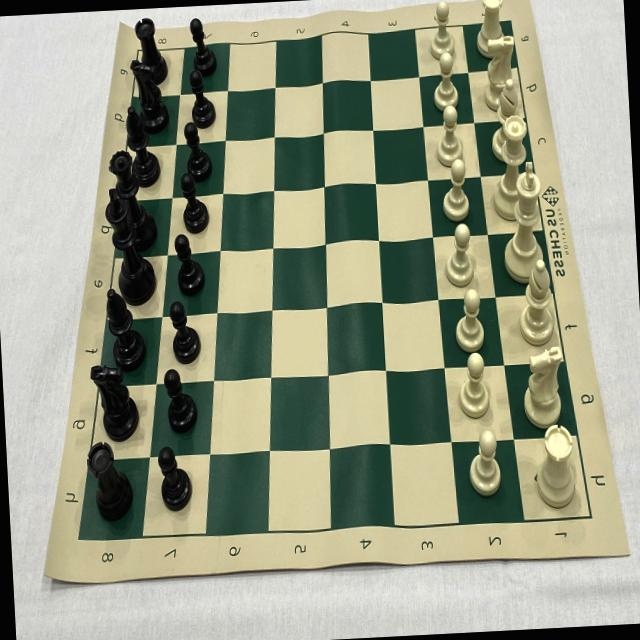black-bishop: (104, 286, 146, 371), (124, 104, 162, 188)
black-king: (103, 185, 159, 308)
black-knight: (90, 363, 140, 444), (130, 57, 170, 135)
black-pawn: (157, 446, 193, 512), (162, 369, 198, 433), (168, 302, 202, 365), (173, 235, 206, 297), (183, 120, 216, 182), (179, 172, 210, 235), (187, 70, 217, 130), (188, 13, 216, 77)
black-queen: (106, 146, 158, 252)
black-rook: (86, 440, 134, 520), (133, 18, 168, 85)
white-bishop: (516, 257, 559, 347), (489, 78, 525, 162)
white-king: (499, 160, 548, 286)
white-knight: (520, 344, 567, 431), (480, 33, 520, 113)
white-pawn: (466, 425, 503, 498), (456, 350, 493, 420), (443, 222, 481, 288), (452, 287, 489, 352), (440, 158, 474, 222), (435, 105, 466, 168), (431, 52, 463, 111), (429, 1, 460, 59)
white-queen: (488, 114, 534, 222)
white-rook: (533, 422, 583, 511), (474, 0, 509, 59)
